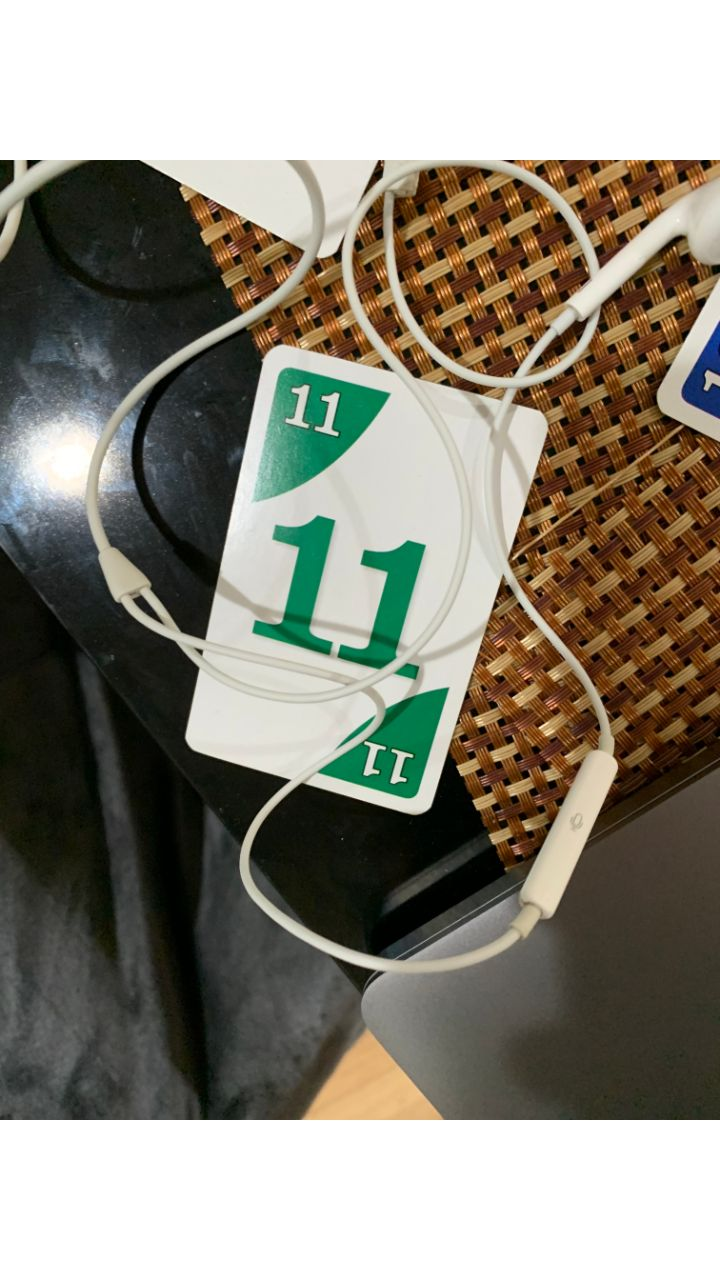eleven: (182, 341, 552, 818)
